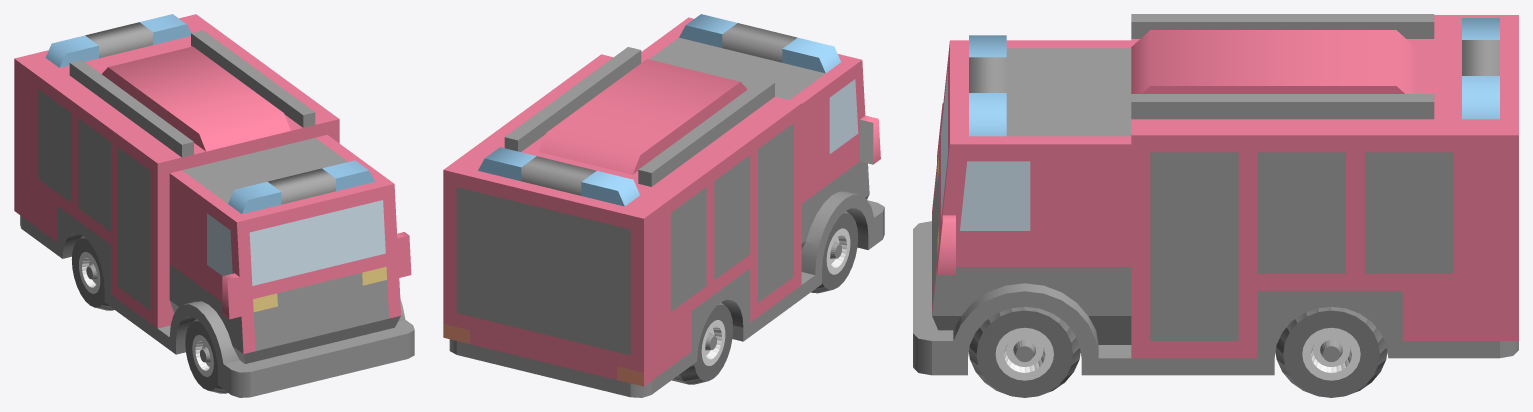
File: car3.fbx
3 renders of one model, left to right at view 1: azimuth 30°, elevation 25°; view 2: azimuth 150°, elevation 25°; view 3: azimuth 270°, elevation 25°, orthographic. The views are drawn at different scales.
Visible parts, largest first — view 1: car.002; view 2: car.002; view 3: car.002.
Boxes of the visible parts, left/top/right/bottom form: car.002: left=14, top=14, right=414, bottom=397; car.002: left=443, top=14, right=884, bottom=397; car.002: left=913, top=14, right=1518, bottom=397.
Size of the model in its own units: 300 by 340 by 640.
